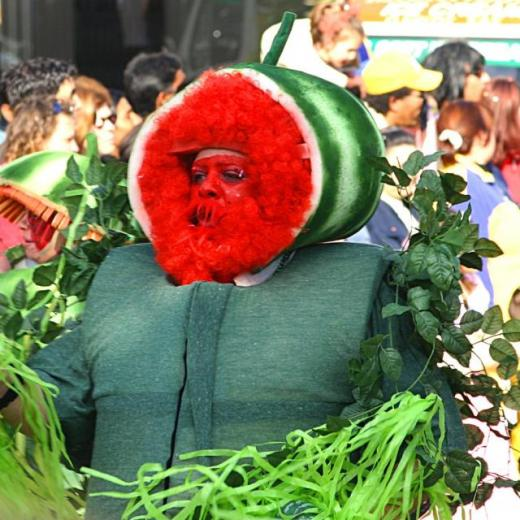Cherry: (121, 13, 384, 287)
